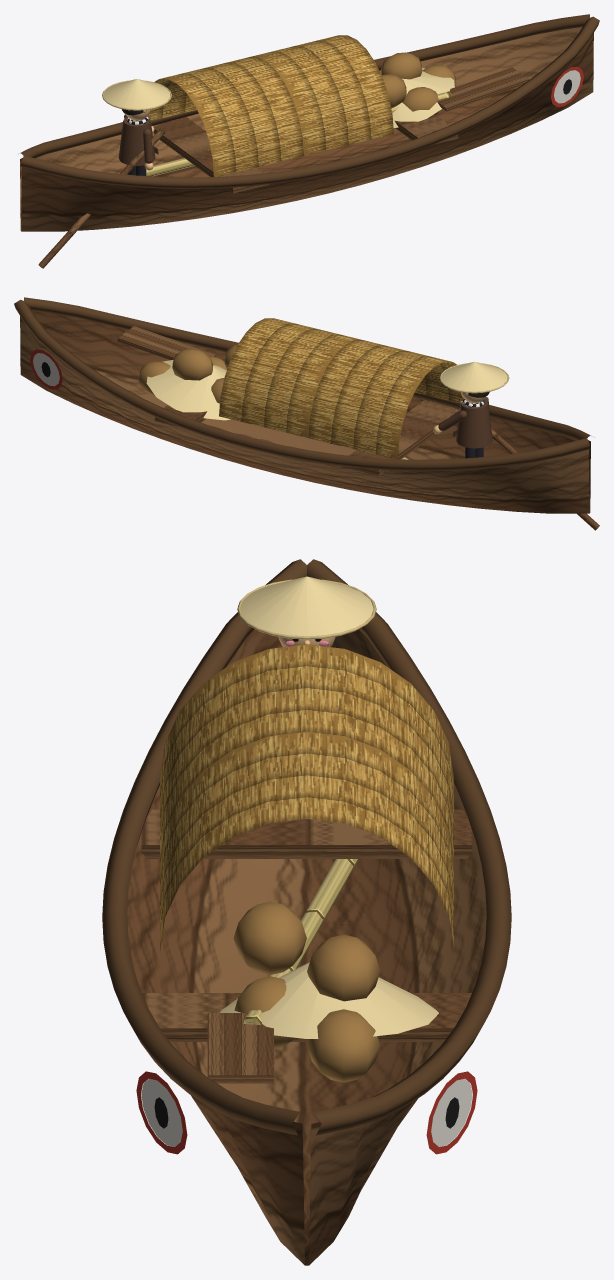
File: ghe_thuong_lai.glb
3 views of the same model, one above another, from view 1: azimuth 30°, elevation 25°; view 2: azimuth 150°, elevation 25°; view 3: azimuth 270°, elevation 25° (orthographic). The views are drawn at different scales.
Parts seen in each view (by area): view 1: ghe_thuong_lai, object 28; view 2: ghe_thuong_lai, object 28; view 3: ghe_thuong_lai, object 28.
Boxes of the visible parts, x1=… form: ghe_thuong_lai: x1=20, y1=14, x2=599, y2=268; object 28: x1=103, y1=79, x2=170, y2=108; ghe_thuong_lai: x1=14, y1=297, x2=599, y2=530; object 28: x1=441, y1=361, x2=507, y2=391; ghe_thuong_lai: x1=102, y1=559, x2=511, y2=1265; object 28: x1=240, y1=576, x2=373, y2=636.
Size of the model in its own units: 2.89 by 0.7311 by 0.8916.
Materials: 25 (4 with a texture image).
